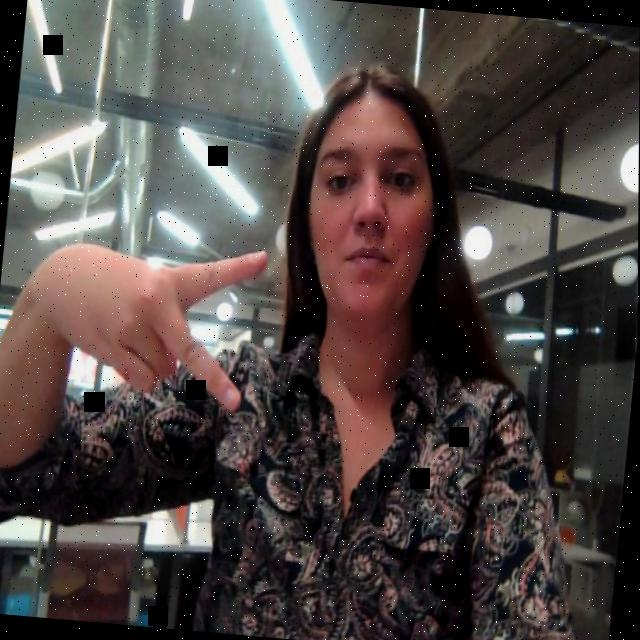Scissors: (40, 226, 274, 422)
